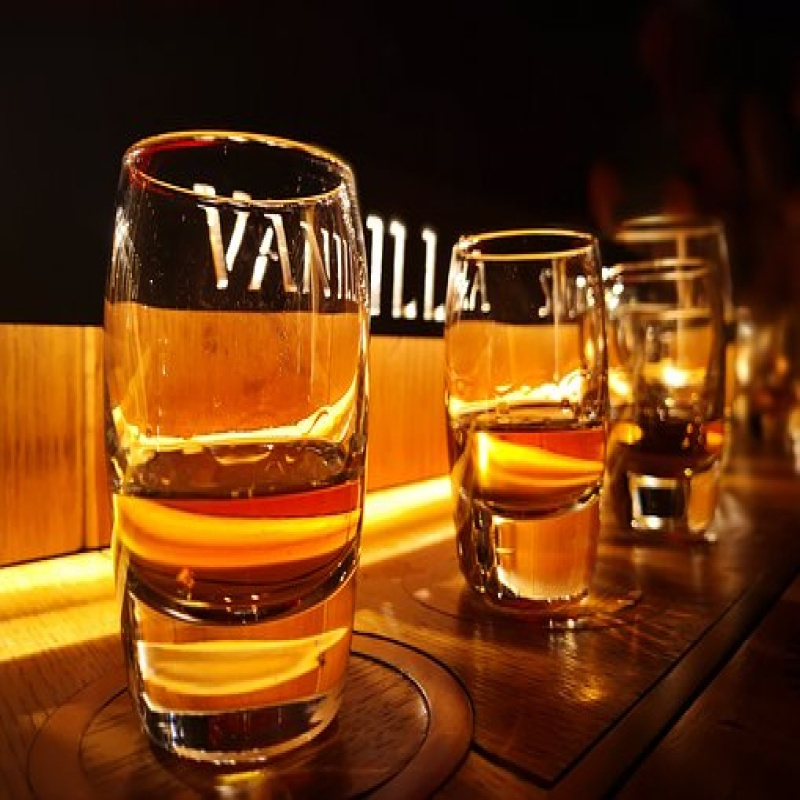whiskey: (117, 133, 369, 763), (450, 230, 611, 618)
